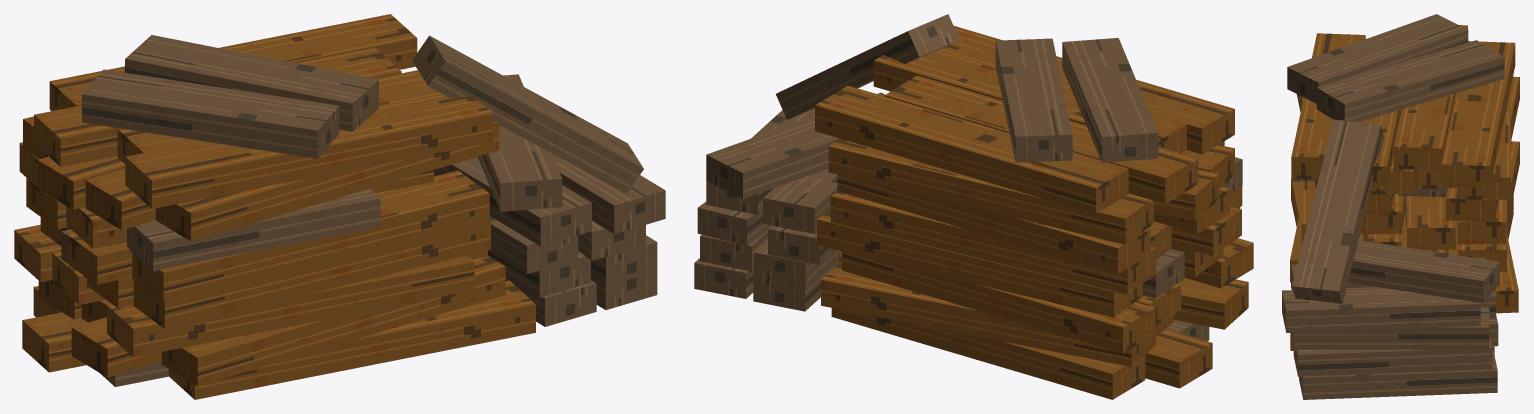
File: C2_Garbage_02-1.FBX
The picture shows the model from 3 angles, left to right: view 1: azimuth 30°, elevation 25°; view 2: azimuth 150°, elevation 25°; view 3: azimuth 270°, elevation 25°; orthographic projection. The views are drawn at different scales.
Visible parts, largest first — view 1: Box046, Box056, Box031, Box023, Box055, Box018, Box030, Box019, Box057, Box042, Box058, Box043 (+24 smaller); view 2: Box043, Box039, Box026, Box022, Box027, Box034, Box056, Box035, Box057, Box015, Box044, Box054 (+23 smaller); view 3: Box055, Box057, Box053, Box054, Box043, Box056, Box048, Box047, Box051, Box044, Box046, Box033 (+19 smaller).
Boxes of the visible parts, box(x1,y1,x2,y2) form: Box046: box(125, 94, 492, 208); Box056: box(82, 69, 339, 158); Box031: box(132, 170, 489, 301); Box023: box(107, 255, 474, 357); Box055: box(412, 35, 643, 193); Box018: box(168, 280, 535, 399); Box030: box(133, 220, 490, 328); Box019: box(161, 256, 505, 386); Box057: box(125, 35, 378, 131); Box042: box(155, 121, 499, 241); Box058: box(127, 189, 380, 271); Box043: box(49, 14, 417, 111); Box043: box(815, 85, 1128, 213); Box039: box(828, 138, 1153, 244); Box026: box(842, 251, 1155, 353); Box022: box(821, 261, 1155, 366); Box027: box(817, 210, 1142, 317); Box034: box(830, 191, 1156, 294); Box056: box(1062, 38, 1158, 162); Box035: box(837, 174, 1150, 274); Box057: box(995, 38, 1072, 162); Box015: box(831, 308, 1145, 399); Box044: box(884, 75, 1198, 203); Box054: box(706, 92, 884, 198); Box055: box(1292, 119, 1383, 303); Box057: box(1316, 40, 1504, 122); Box053: box(1282, 287, 1480, 332); Box054: box(1348, 240, 1499, 303); Box043: box(1441, 41, 1515, 188); Box056: box(1287, 14, 1468, 103); Box048: box(1293, 333, 1492, 376); Box047: box(1299, 350, 1497, 399); Box051: box(1294, 307, 1489, 349); Box044: box(1394, 25, 1467, 170); Box046: box(1291, 33, 1365, 179); Box033: box(1407, 196, 1455, 249).
Bounding box in the file's own units: 233 × 111 × 115.
1 material, 1 textured.
